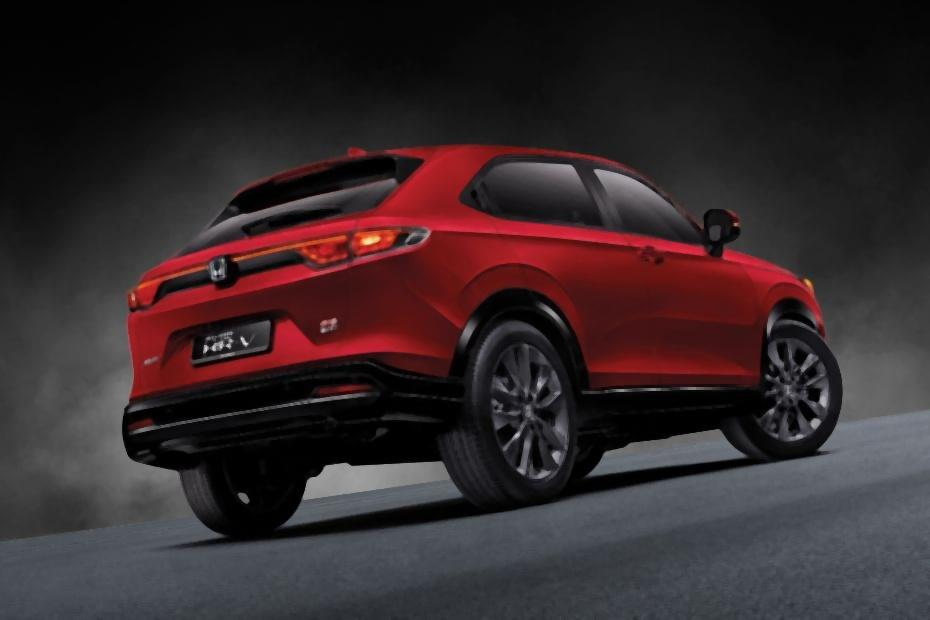Car boot: (124, 146, 422, 399)
Driver-s door - -F-R-: (576, 142, 757, 388)
Fender - -F-R-: (710, 241, 822, 328)
Fender - -R-R-: (376, 196, 524, 331)
Passenger-s door - -R-R-: (471, 133, 664, 407)
Rear bumper: (123, 350, 450, 500)
Rear light - -L-: (121, 275, 166, 316)
Rear light - -R-: (292, 220, 429, 272)
Side bumper - -R-: (571, 375, 769, 457)
Side mirror - -R-: (700, 206, 740, 248)
